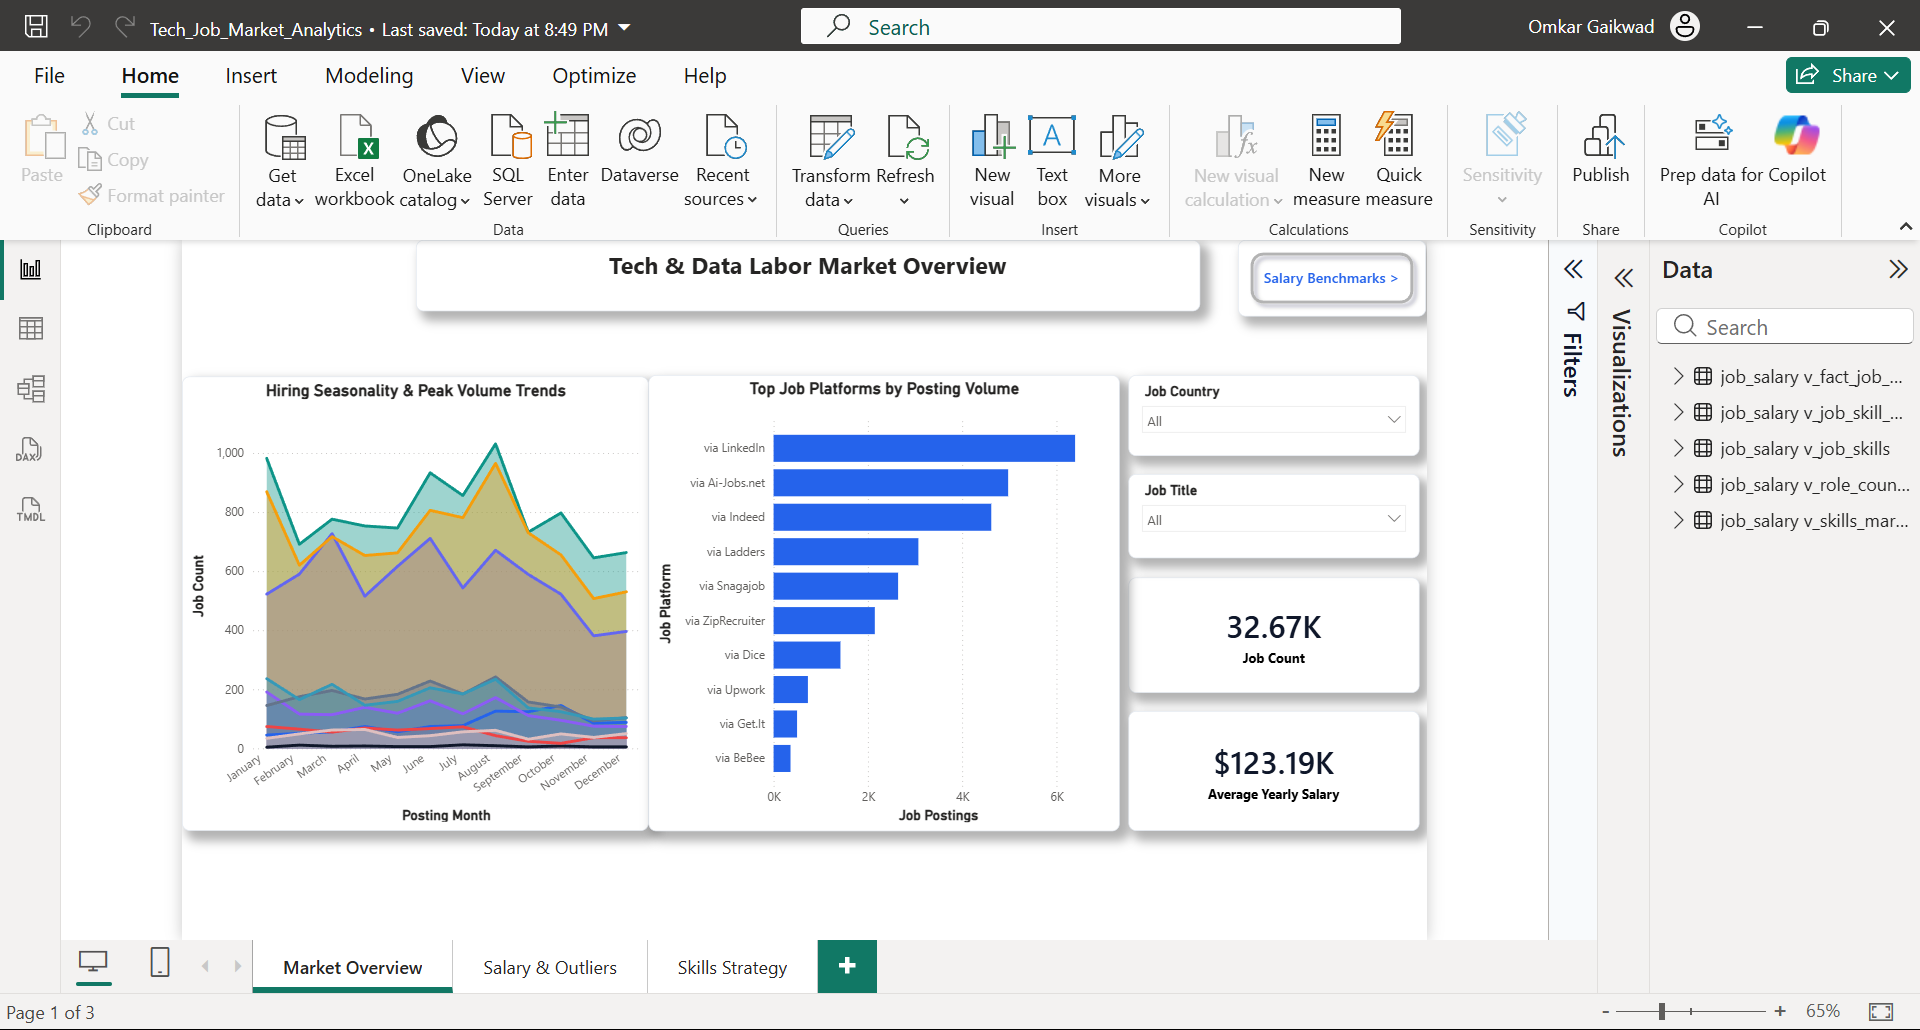

Layout of this report page (visuals, bound fields, positions):
{"tool":"powerbi","page":{"name":"Market Overview","canvas":[1280,720],"ordinal":0},"visuals":[{"type":"card","fields":{"Values":["Count(job_salary v_fact_job_postings.job_id)"]},"box":[973.6,347.2,299.3,118.8],"z":0},{"type":"areaChart","title":"Hiring Seasonality & Peak Volume Trends","fields":{"Category":["job_salary v_fact_job_postings.posting_month_name"],"Series":["job_salary v_fact_job_postings.job_title_short"],"Y":["CountNonNull(job_salary v_fact_job_postings.job_id)"]},"box":[0,140.4,479.8,467.5],"z":1000},{"type":"clusteredBarChart","title":"Top Job Platforms by Posting Volume","fields":{"Category":["job_salary v_fact_job_postings.job_platform"],"Y":["CountNonNull(job_salary v_fact_job_postings.job_id)"]},"box":[479.8,138.9,484.5,469],"z":2000},{"type":"slicer","fields":{"Values":["job_salary v_fact_job_postings.job_country"]},"box":[973.6,138.9,299.3,83.3],"z":3000},{"type":"textbox","box":[240,0,806.7,73.3],"z":4000},{"type":"card","fields":{"Values":["Avg(job_salary v_fact_job_postings.salary_year)"]},"box":[973.6,484.5,299.3,123.4],"z":5000},{"type":"slicer","fields":{"Values":["job_salary v_fact_job_postings.job_title_short"]},"box":[973.6,240.7,299.3,86.4],"z":6000},{"type":"actionButton","box":[1086.7,0,193.3,78.3],"z":6001}]}

Visuals, with their boxes on the page's 1280x720 design canvas (x1, y1, x2, y2). These are canvas units, not pixel positions in the 1920x1030 screenshot, which may show the page scaled, cropped or inside an application window:
card - Count(job_salary v_fact_job_postings.job_id): 974 347 1273 466
"Hiring Seasonality & Peak Volume Trends" areaChart: 0 140 480 608
"Top Job Platforms by Posting Volume" clusteredBarChart: 480 139 964 608
slicer - job_salary v_fact_job_postings.job_country: 974 139 1273 222
textbox: 240 0 1047 73
card - Avg(job_salary v_fact_job_postings.salary_year): 974 484 1273 608
slicer - job_salary v_fact_job_postings.job_title_short: 974 241 1273 327
actionButton: 1087 0 1280 78
